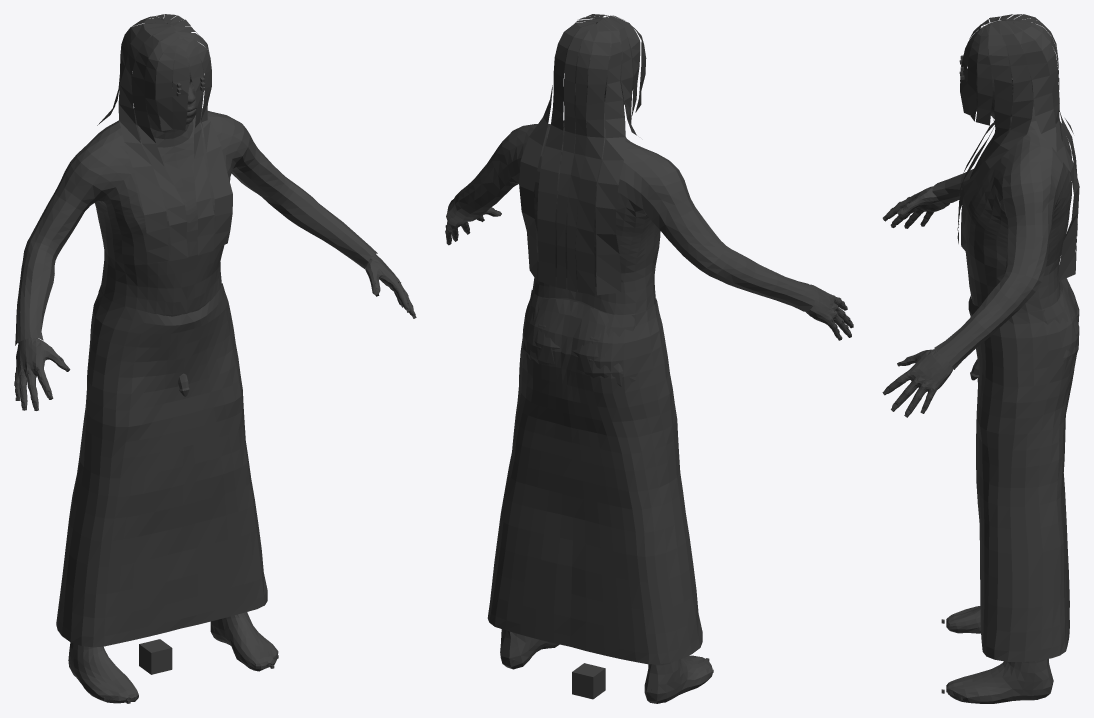
The model's file is female.glb.
3 views of the same model, side by side, from view 1: azimuth 30°, elevation 25°; view 2: azimuth 150°, elevation 25°; view 3: azimuth 270°, elevation 25° (orthographic).
Visible parts, largest first — view 1: vitals_female; view 2: vitals_female; view 3: vitals_female.
Boxes of the visible parts, x1=… form: vitals_female: x1=14, y1=14, x2=416, y2=703; vitals_female: x1=445, y1=14, x2=853, y2=703; vitals_female: x1=882, y1=14, x2=1079, y2=703.
Bounding box in the file's own units: 1.04 × 1.66 × 0.4547.
Materials: 1 (1 with a texture image).
